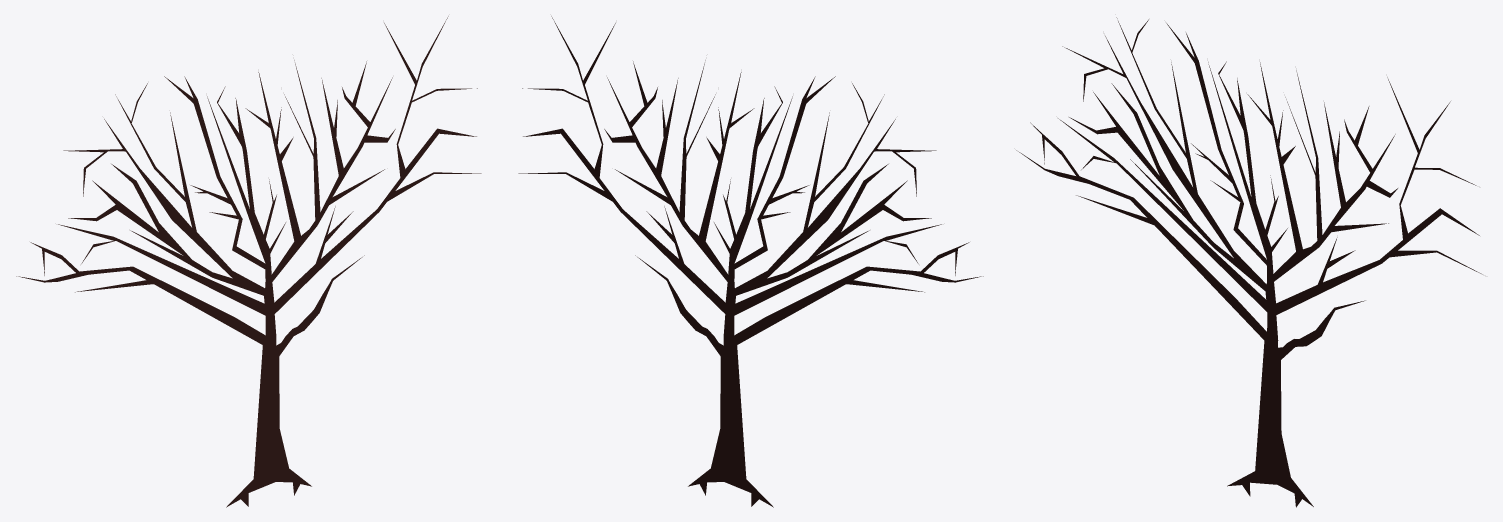
Rendered from CherryTree_01.fbx.
3 renders of one model, left to right at view 1: azimuth 30°, elevation 25°; view 2: azimuth 150°, elevation 25°; view 3: azimuth 330°, elevation 25°, orthographic.
Parts seen in each view (by area): view 1: planarTrimmedSurface2; view 2: planarTrimmedSurface2; view 3: planarTrimmedSurface2.
Boxes of the visible parts, bbox=[...] form: planarTrimmedSurface2: bbox=[16, 16, 481, 507]; planarTrimmedSurface2: bbox=[518, 16, 983, 507]; planarTrimmedSurface2: bbox=[1016, 17, 1482, 507].
Bounding box in the file's own units: 18.05 × 16.62 × 0.
1 material, 1 textured.
